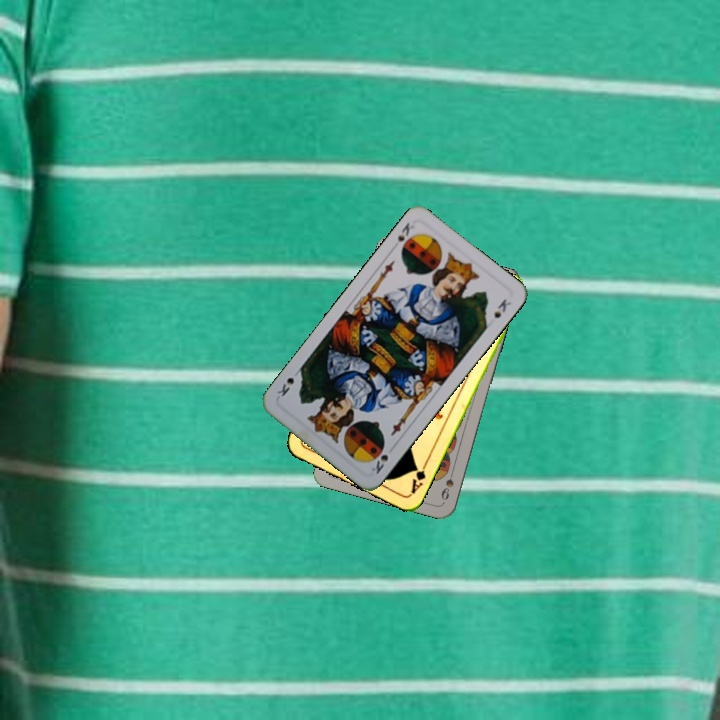GA: (407, 458, 430, 496)
S9: (437, 464, 457, 503)
SK: (388, 218, 417, 253), (367, 450, 391, 477)
